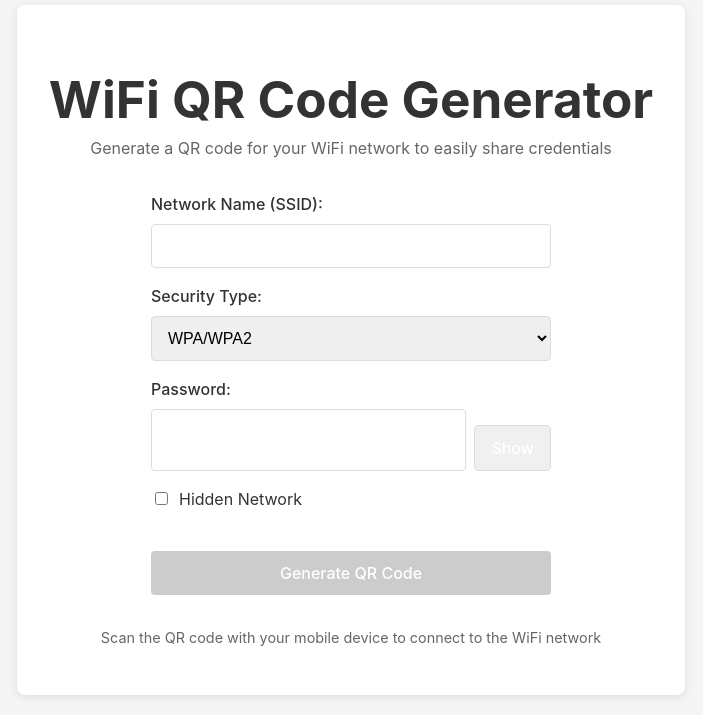
Test case: App › shows error message when SSID is missing
The width and height of the screenshot is (703, 715).
Enter an SSID to enable the button
In the field labelled "Network Name (SSID):": x=351, y=246 [151,224,551,268], type "TestNetwork"
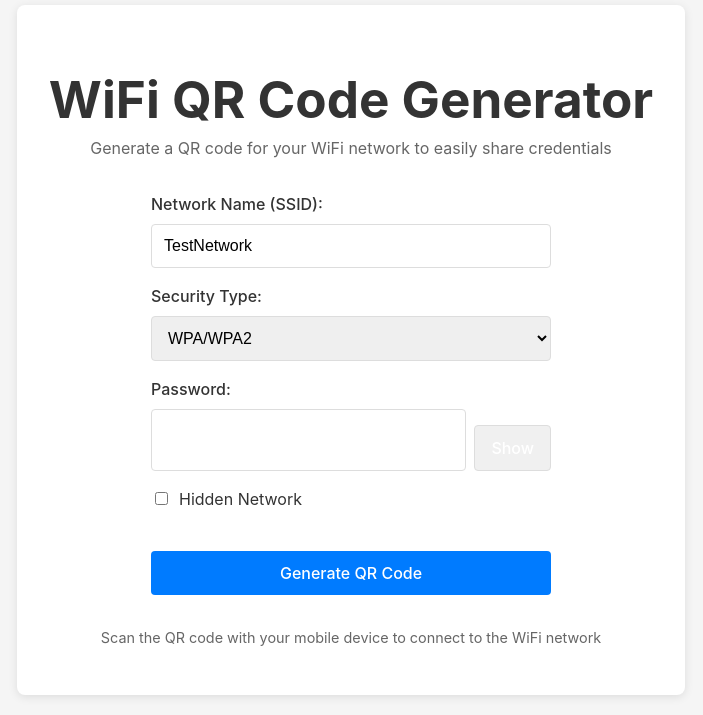
Check: the button "Generate QR Code" is enabled, box [151,551,551,595]
Clear the SSID to disable the button again
Clear the field labelled "Network Name (SSID):": x=351, y=246 [151,224,551,268]
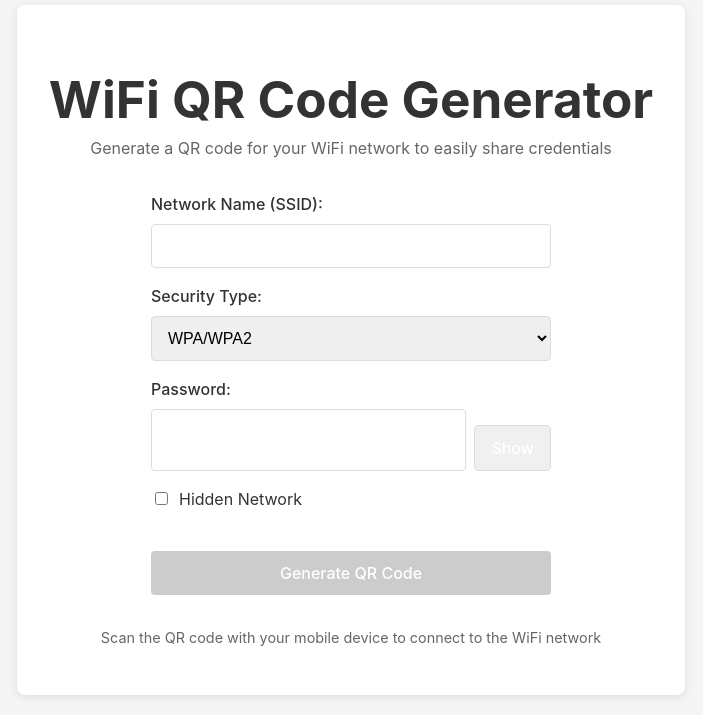
Check: the button "Generate QR Code" is disabled, box [151,551,551,595]
